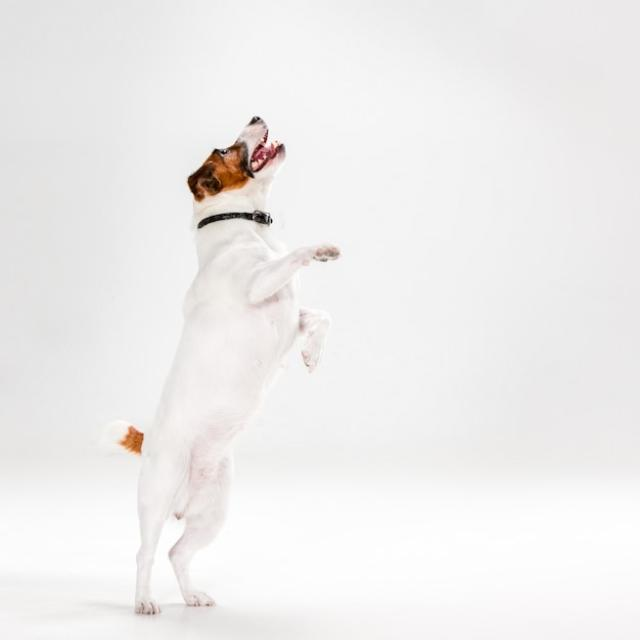Dog: (104, 114, 338, 617)
